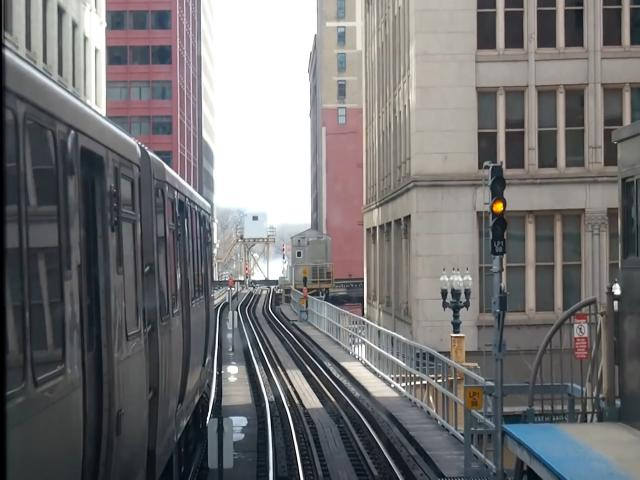signal light: (487, 163, 511, 261), (246, 261, 251, 280), (283, 243, 287, 264)
